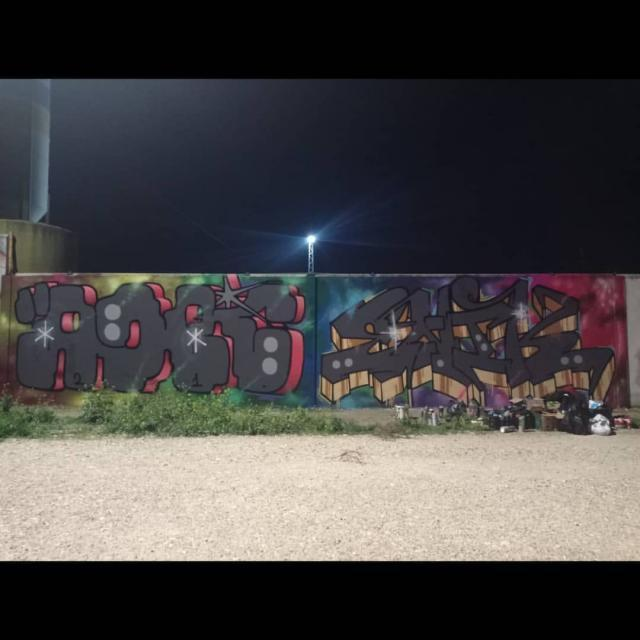nonspitting: (318, 276, 616, 407), (11, 271, 306, 398)
